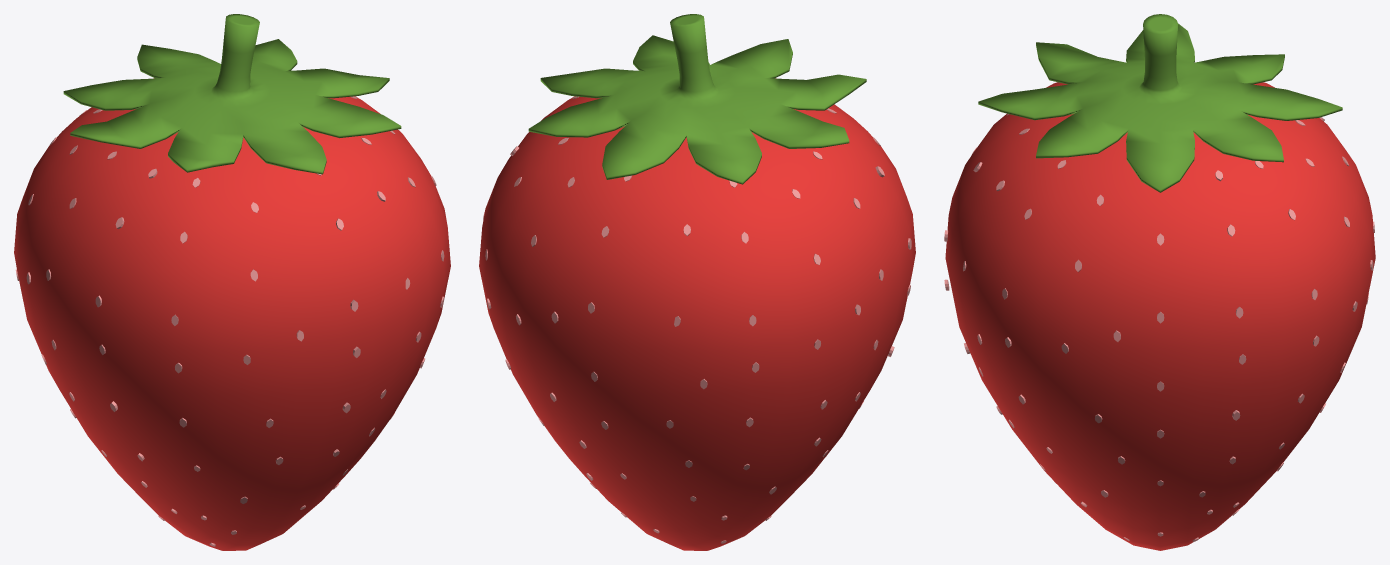
Rendered from strawberry.glb.
3 views of the same model, side by side, from view 1: azimuth 30°, elevation 25°; view 2: azimuth 150°, elevation 25°; view 3: azimuth 270°, elevation 25° (orthographic).
Visible parts, largest first — view 1: Cube.340; view 2: Cube.340; view 3: Cube.340.
Boxes of the visible parts, x1,y1,x2,y2 form: Cube.340: (14,14,450,550); Cube.340: (479,14,915,550); Cube.340: (944,14,1375,550).
Size of the model in its own units: 1.75 by 2.37 by 1.76.
1 material, 1 textured.
